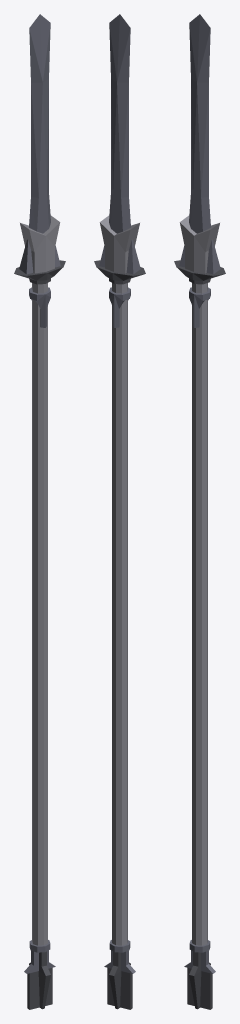
File: Lanca_B03.fbx
The picture shows the model from 3 angles, left to right: view 1: azimuth 30°, elevation 25°; view 2: azimuth 150°, elevation 25°; view 3: azimuth 330°, elevation 25°; orthographic projection.
Visible parts, largest first — view 1: polearm_3; view 2: polearm_3; view 3: polearm_3.
Part boxes in pixels (bbox=[...]): polearm_3: bbox=[14, 14, 65, 1009]; polearm_3: bbox=[94, 14, 145, 1009]; polearm_3: bbox=[174, 14, 225, 1009].
Bounding box in the file's own units: 11.21 × 205 × 6.29.
